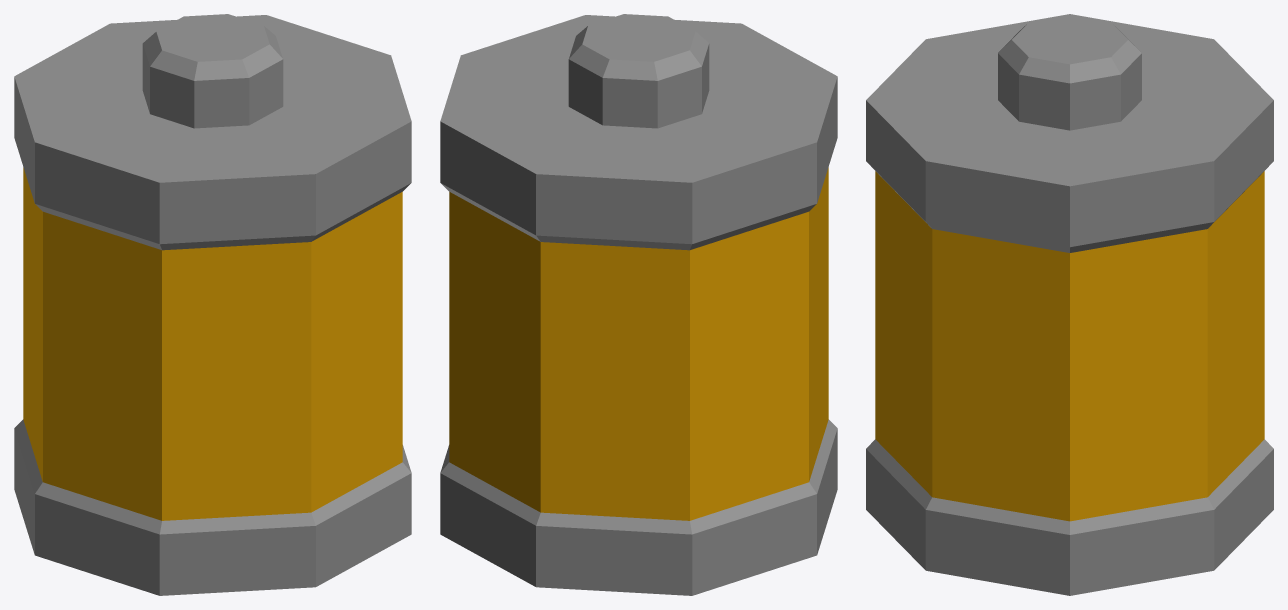
Rendered from SM_Lantern.fbx.
3 renders of one model, left to right at view 1: azimuth 30°, elevation 25°; view 2: azimuth 150°, elevation 25°; view 3: azimuth 270°, elevation 25°, orthographic.
Visible parts, largest first — view 1: LanternBody, LanternGlass; view 2: LanternBody, LanternGlass; view 3: LanternBody, LanternGlass.
Boxes of the visible parts, left/top/right/bottom form: LanternBody: left=14, top=14, right=411, bottom=595; LanternGlass: left=23, top=167, right=402, bottom=520; LanternBody: left=440, top=14, right=837, bottom=595; LanternGlass: left=449, top=167, right=828, bottom=520; LanternBody: left=866, top=14, right=1273, bottom=595; LanternGlass: left=875, top=171, right=1264, bottom=521.
Size of the model in its own units: 37.2 by 47.31 by 37.2.
